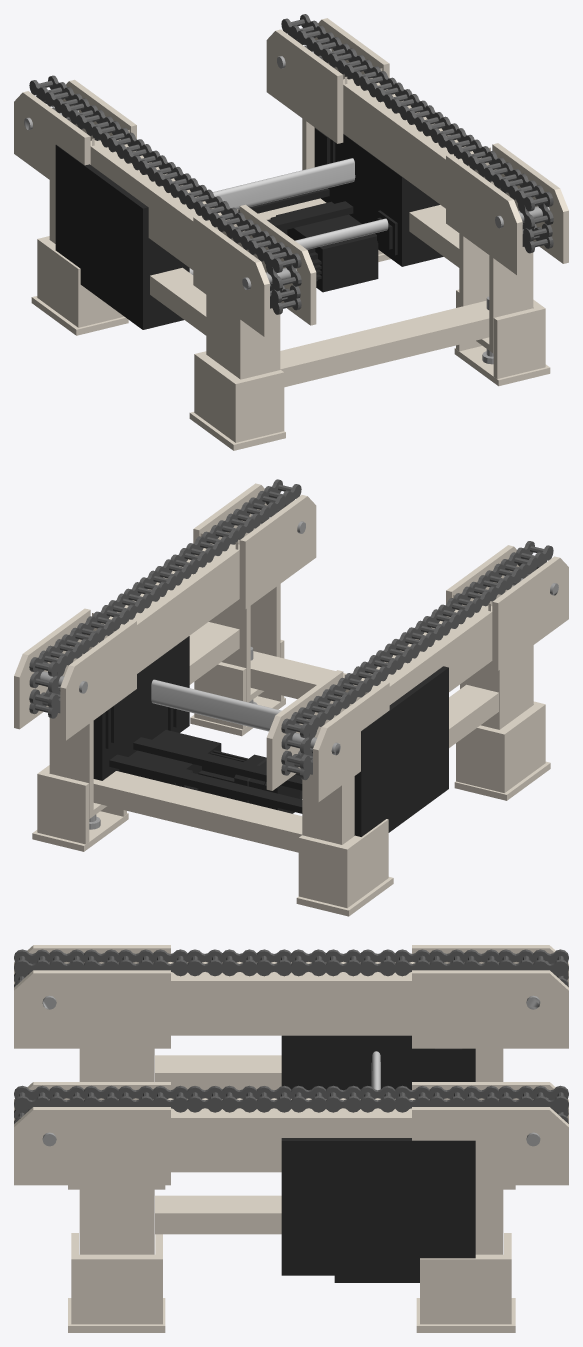
The model's file is continuous-chain-w1314-l1799.glb.
The picture shows the model from 3 angles, top to bottom: view 1: azimuth 30°, elevation 25°; view 2: azimuth 150°, elevation 25°; view 3: azimuth 270°, elevation 25°; orthographic projection. The views are drawn at different scales.
Parts seen in each view (by area): view 1: steel_frame, drive_motor, bearing_chain_links, drive_shafts, chain_end_returns, frame_fasteners, return_chain_links; view 2: steel_frame, drive_motor, bearing_chain_links, drive_shafts, chain_end_returns, frame_fasteners, return_chain_links; view 3: steel_frame, drive_motor, bearing_chain_links, frame_fasteners, chain_end_returns.
Part boxes in pixels (x1,y1,x2,y2): steel_frame: (14,18,568,450); drive_motor: (55,127,443,329); bearing_chain_links: (29,14,553,272); drive_shafts: (189,158,388,274); chain_end_returns: (36,25,553,308); frame_fasteners: (24,48,549,364); return_chain_links: (270,222,553,314); steel_frame: (14,483,568,916); drive_motor: (93,636,448,836); bearing_chain_links: (29,479,553,738); drive_shafts: (151,679,281,731); chain_end_returns: (29,496,546,774); frame_fasteners: (34,514,558,829); return_chain_links: (29,687,312,780); steel_frame: (14,945,568,1332); drive_motor: (281,1035,475,1282); bearing_chain_links: (14,949,568,1112); frame_fasteners: (42,995,540,1146); chain_end_returns: (14,959,568,1123).
Bounding box in the file's own units: 1.31 × 0.8 × 1.8.
